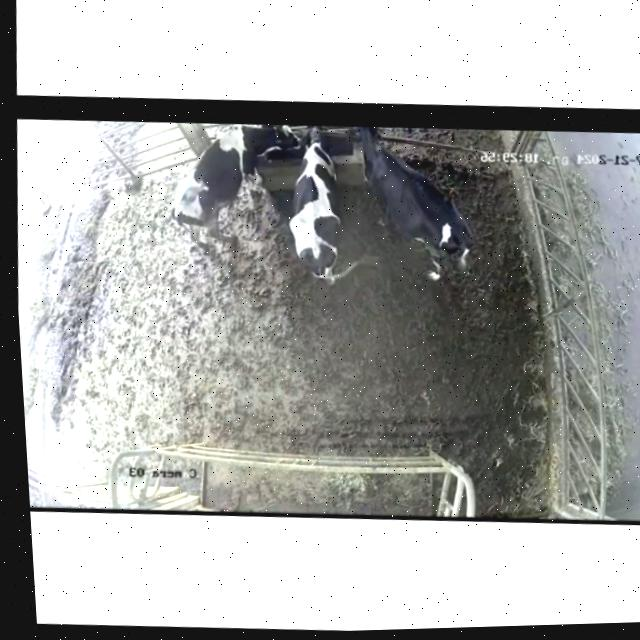drink: (295, 126, 345, 173), (246, 123, 299, 167)
stand: (353, 124, 484, 285)
